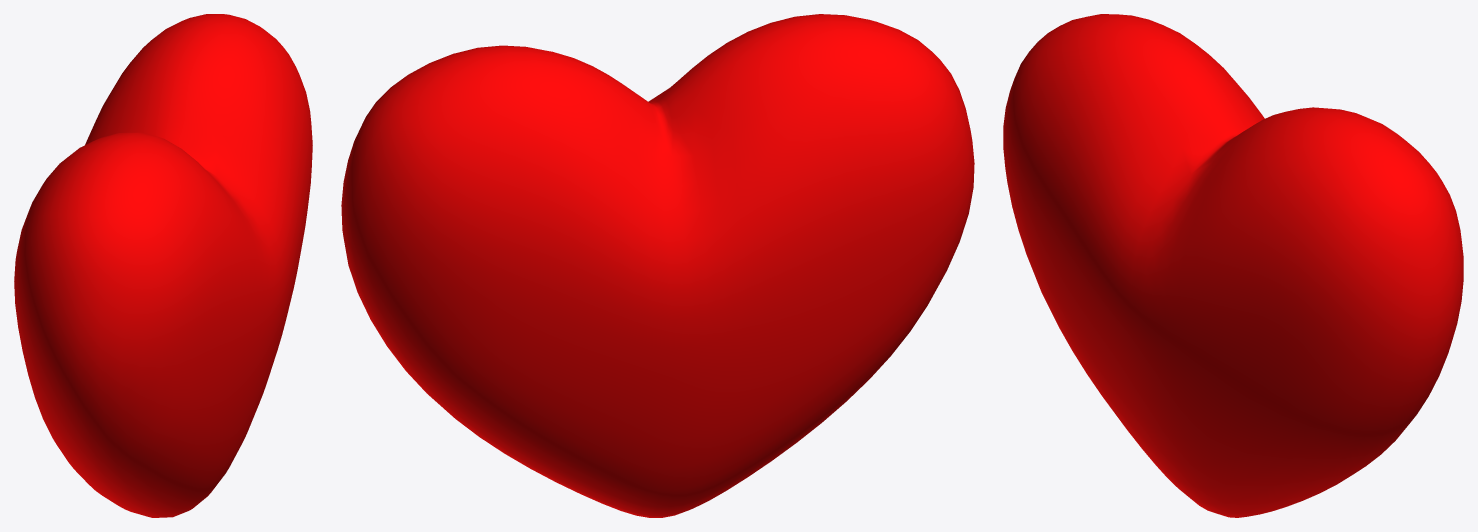
Rendered from props_heart.glb.
The picture shows the model from 3 angles, left to right: view 1: azimuth 30°, elevation 25°; view 2: azimuth 150°, elevation 25°; view 3: azimuth 270°, elevation 25°; orthographic projection. The views are drawn at different scales.
Parts seen in each view (by area): view 1: Cube; view 2: Cube; view 3: Cube.
Boxes of the visible parts, <box> form: Cube: <box>14,14,312,517</box>; Cube: <box>341,14,974,517</box>; Cube: <box>1003,14,1463,517</box>.
Size of the model in its own units: 1.76 by 1.79 by 1.69.
